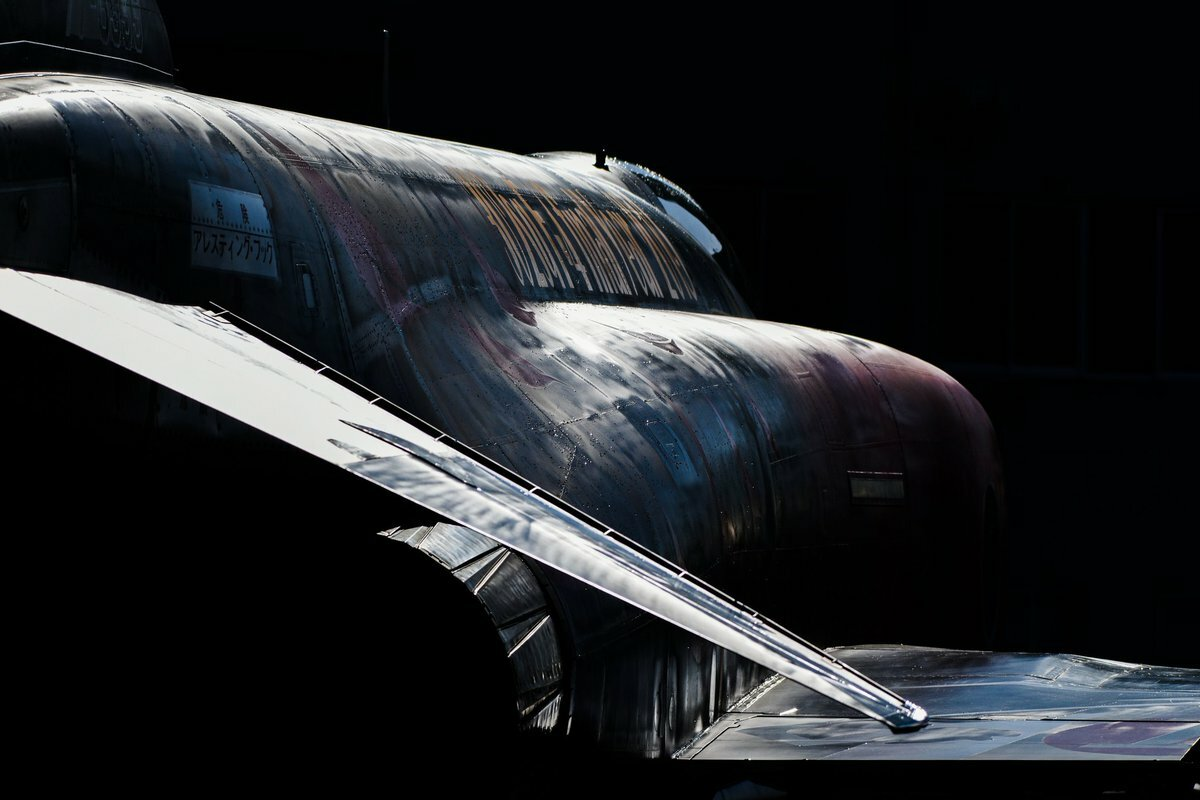F4: (1, 1, 1200, 800)
